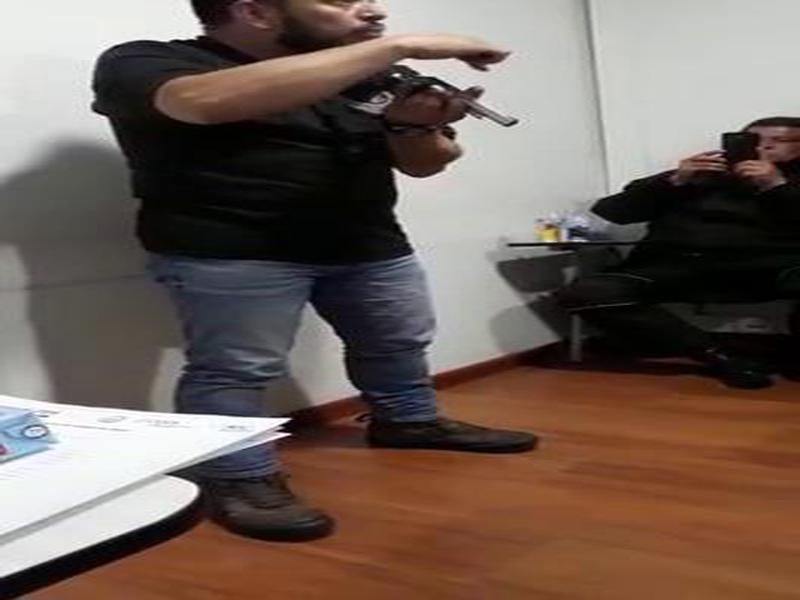Revolver: (367, 35, 519, 165)
